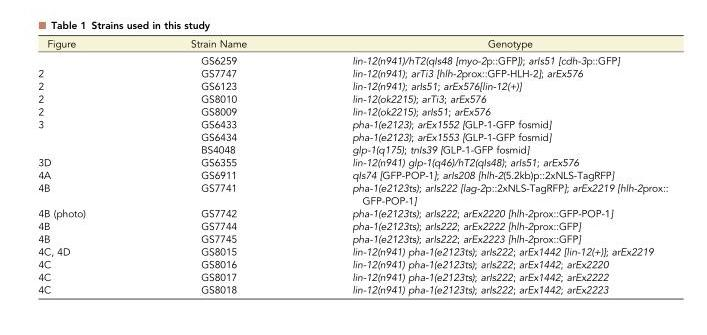table: (37, 37, 667, 295)
table column: (298, 37, 667, 295), (137, 37, 298, 295), (37, 37, 137, 295)
table column header: (37, 37, 667, 51)
table row: (37, 181, 667, 206), (37, 51, 667, 66), (37, 37, 667, 51), (37, 66, 667, 79), (37, 79, 667, 92), (37, 104, 667, 117), (37, 117, 667, 130), (37, 130, 667, 143), (37, 155, 667, 168), (37, 168, 667, 181), (37, 206, 667, 219), (37, 219, 667, 232), (37, 244, 667, 257), (37, 257, 667, 270), (37, 282, 667, 295), (37, 92, 667, 104), (37, 143, 667, 155), (37, 232, 667, 244), (37, 270, 667, 282)
table spanning cell: (37, 117, 137, 155)
